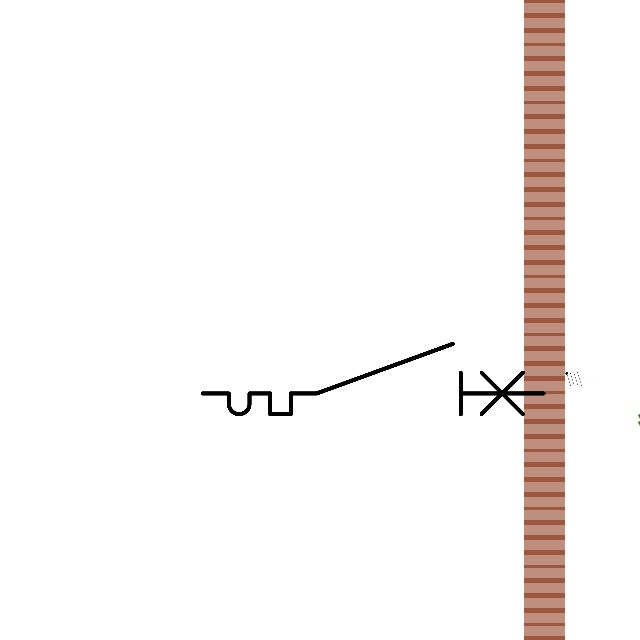interruptor_termomagnetico: (194, 335, 552, 423)
